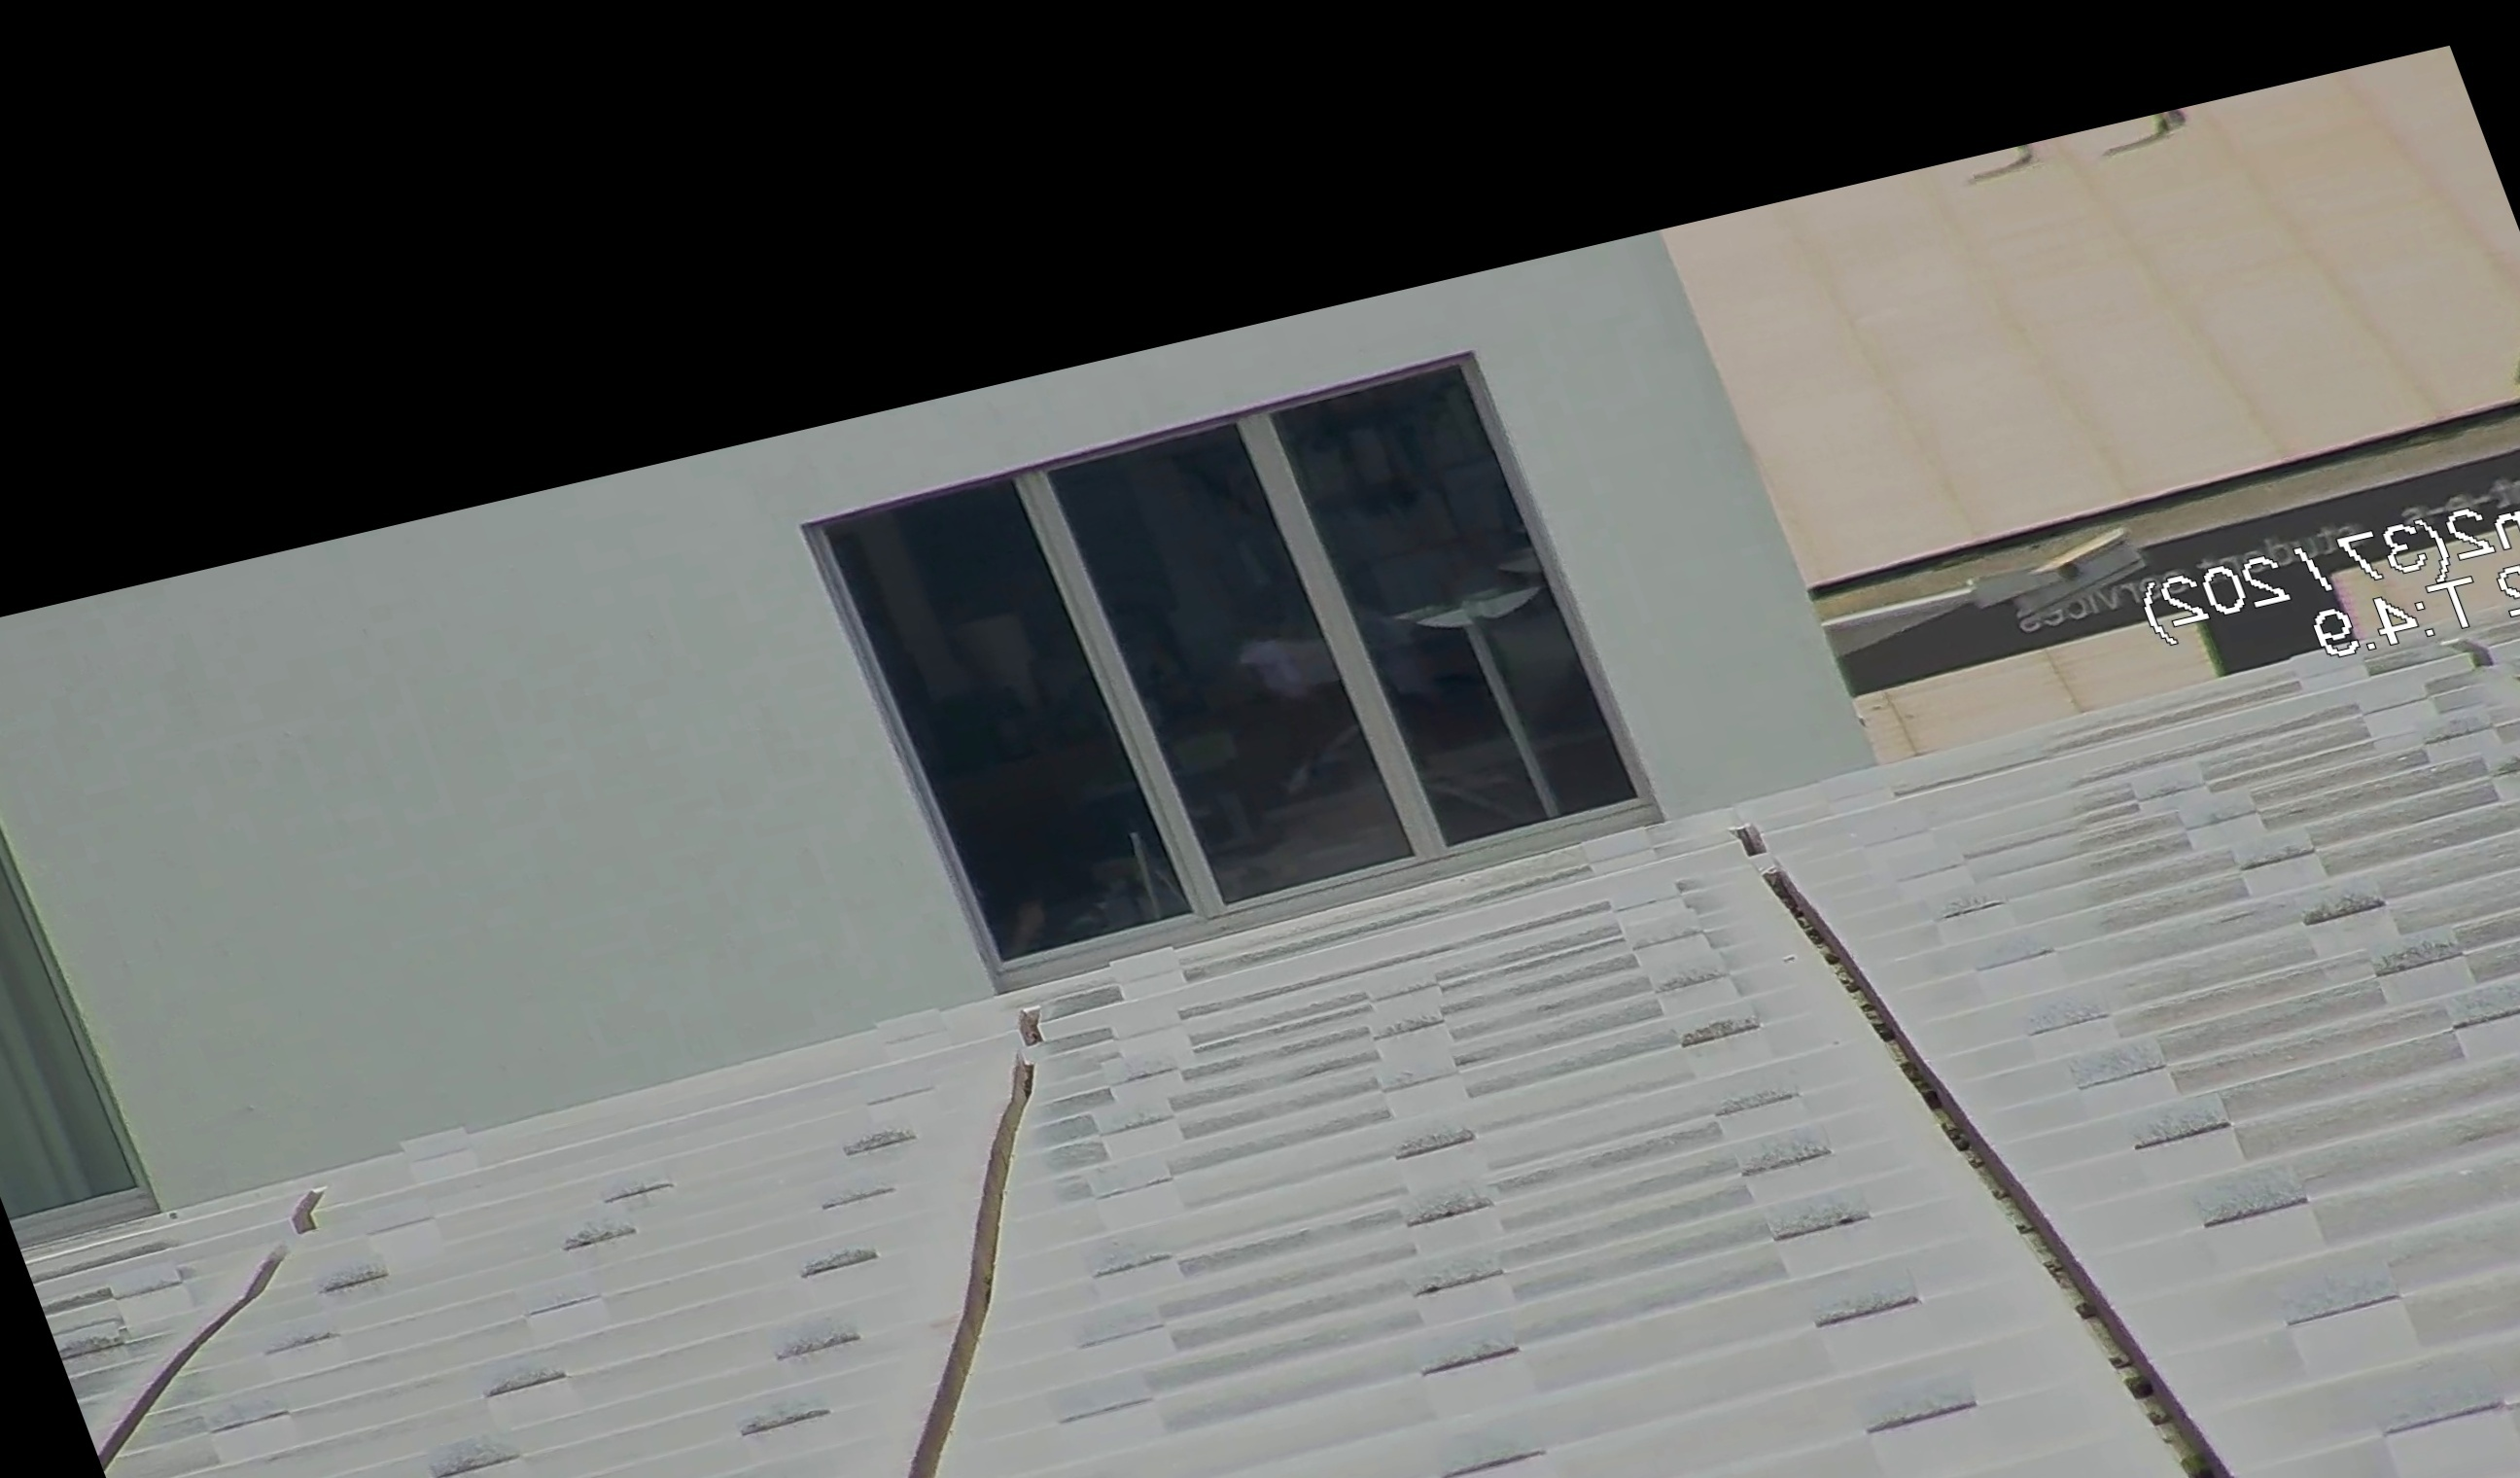Other: (2483, 273, 2520, 403)
